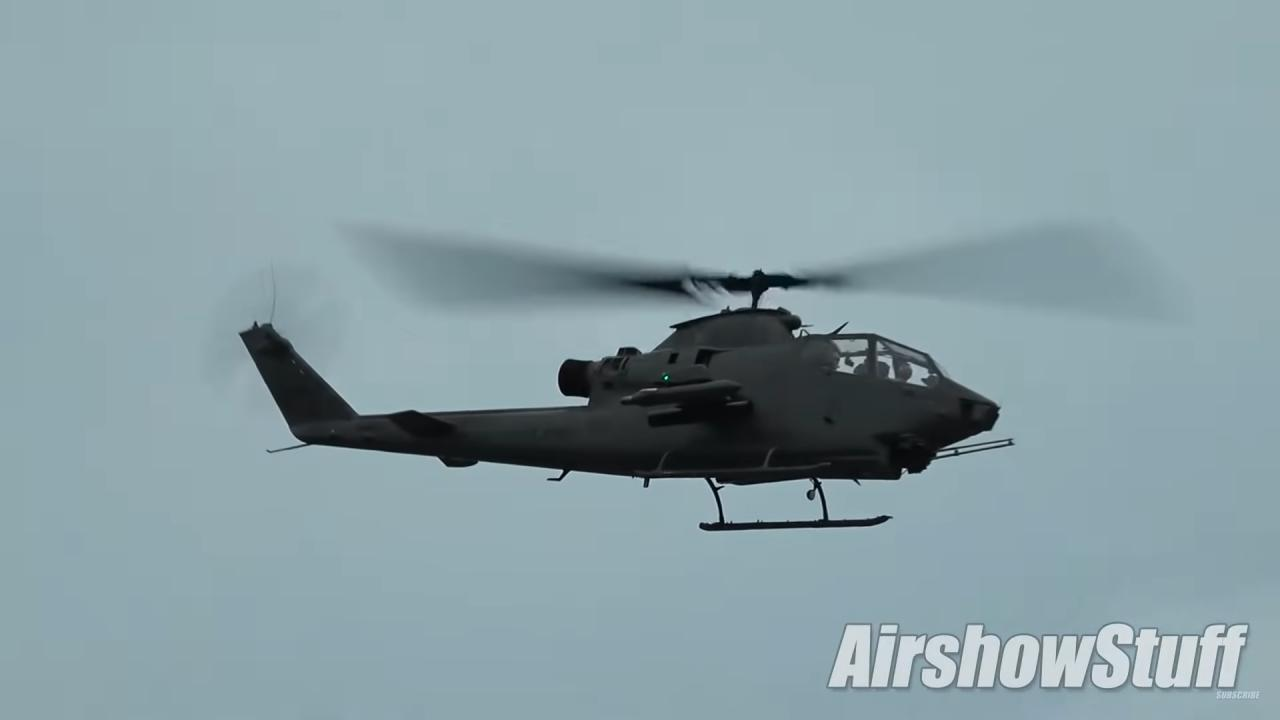Helicopter: (218, 205, 1190, 543)
